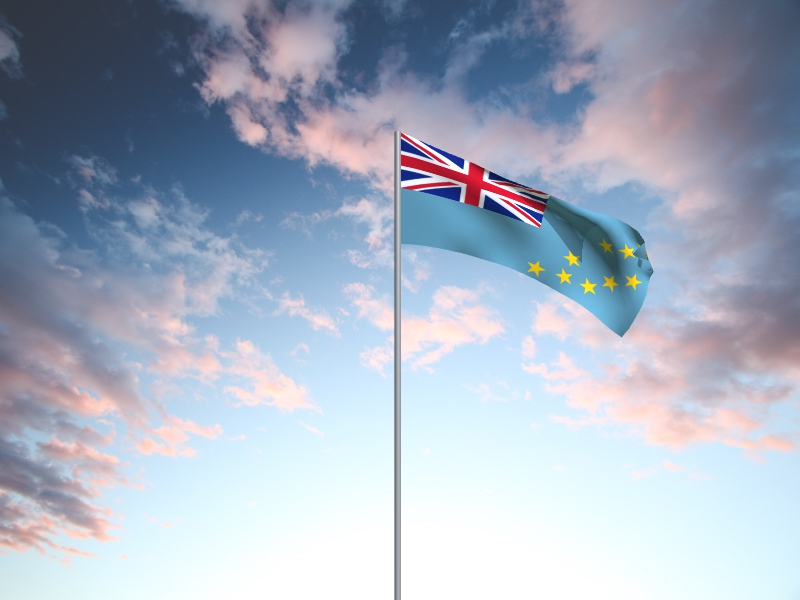tv: (401, 133, 655, 339)
